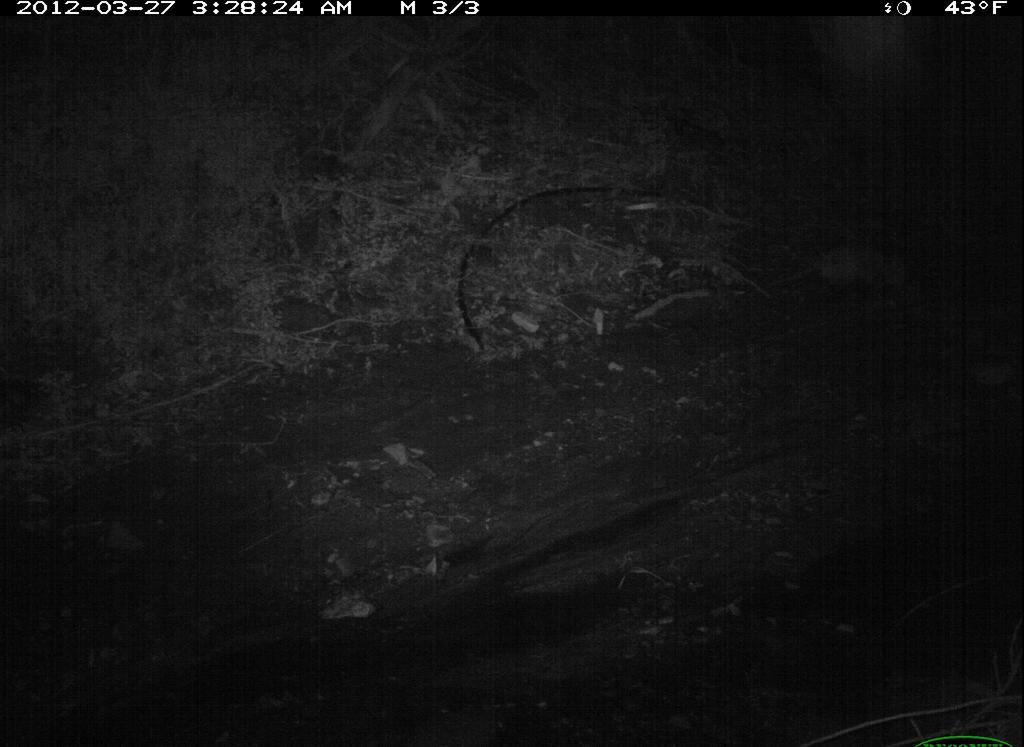opossum: (772, 199, 940, 324)
